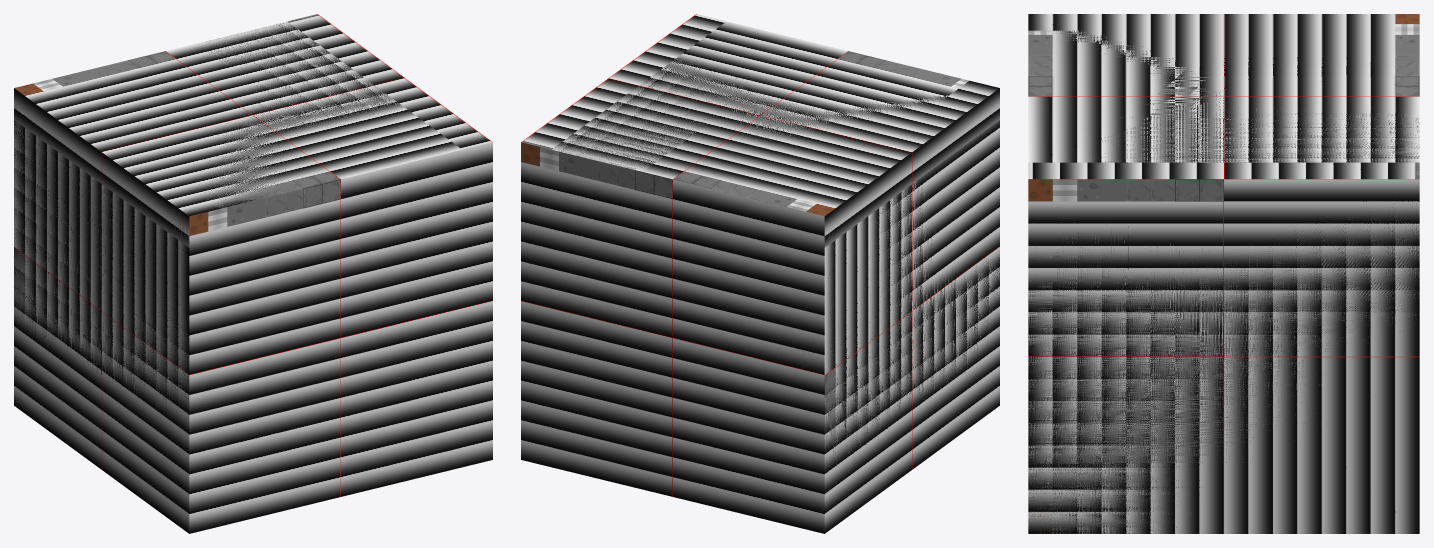
File: BaseCubes_set.glb
3 views of the same model, side by side, from view 1: azimuth 30°, elevation 25°; view 2: azimuth 150°, elevation 25°; view 3: azimuth 270°, elevation 25° (orthographic). The views are drawn at different scales.
Parts seen in each view (by area): view 1: CubeBaseRounded, CubeBase, CubeBaseR_SideFlat, TrapBase, CubeBaseR_BottomFlat, RampBase; view 2: CubeBase, CubeBaseRounded, CubeBaseR_SideFlat, TrapBase, CubeBaseR_BottomFlat, RampBase; view 3: TrapBase, CubeBase, CubeBaseRounded, CubeBaseR_SideFlat, CubeBaseR_BottomFlat, RampBase.
Boxes of the visible parts, box(x1,y1,x2,y2) form: CubeBaseRounded: box(14, 89, 475, 526); CubeBase: box(14, 63, 411, 533); CubeBaseR_SideFlat: box(14, 21, 443, 533); TrapBase: box(199, 14, 492, 466); CubeBaseR_BottomFlat: box(14, 22, 395, 533); RampBase: box(190, 249, 416, 533); CubeBase: box(521, 80, 999, 533); CubeBaseRounded: box(521, 21, 999, 468); CubeBaseR_SideFlat: box(521, 59, 999, 532); TrapBase: box(521, 14, 824, 533); CubeBaseR_BottomFlat: box(554, 63, 999, 510); RampBase: box(521, 144, 775, 508); TrapBase: box(1028, 113, 1419, 533); CubeBase: box(1028, 14, 1419, 393); CubeBaseRounded: box(1028, 30, 1392, 498); CubeBaseR_SideFlat: box(1028, 57, 1419, 497); CubeBaseR_BottomFlat: box(1028, 95, 1419, 533); RampBase: box(1028, 218, 1294, 533).
Bounding box in the file's own units: 1 × 1 × 1.
Materials: 6 (6 with a texture image).
